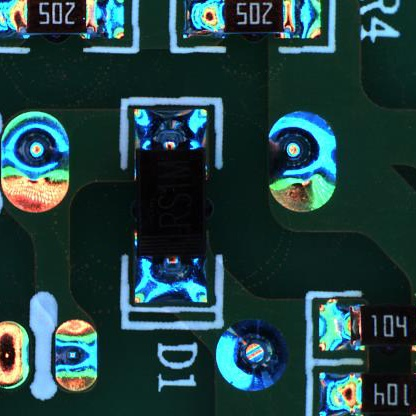spot: (258, 99, 339, 215), (1, 107, 72, 219), (212, 317, 291, 398), (51, 314, 103, 395)
